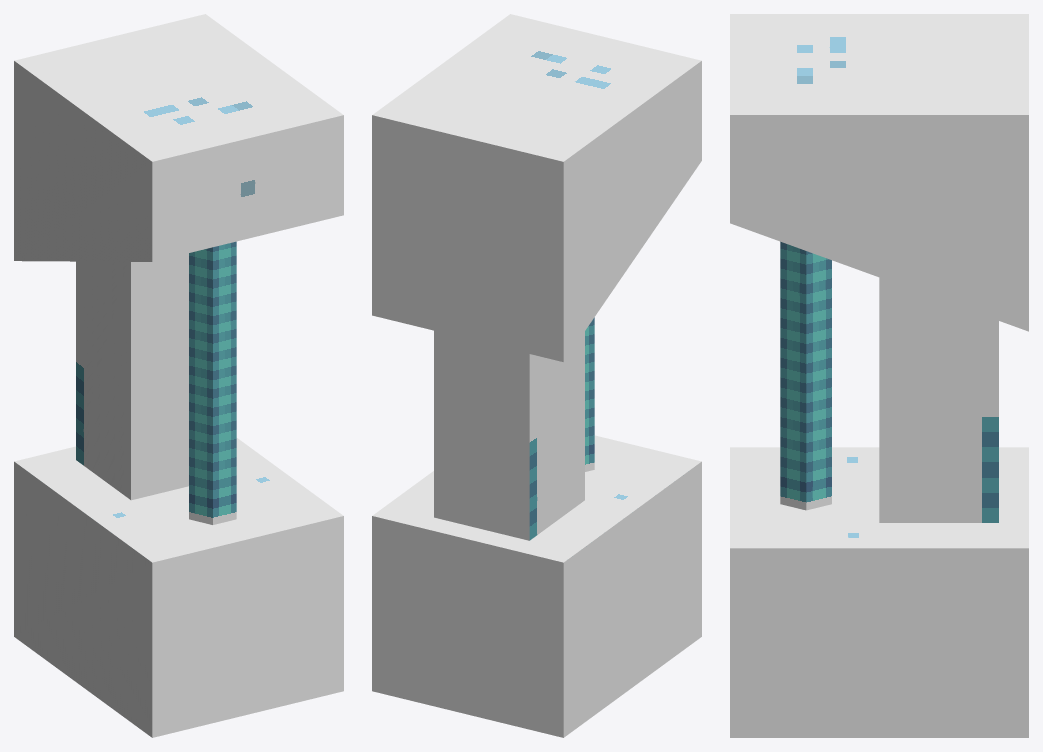
Rendered from charging_station_overlay.obj.
3 renders of one model, left to right at view 1: azimuth 30°, elevation 25°; view 2: azimuth 150°, elevation 25°; view 3: azimuth 270°, elevation 25°, orthographic. The views are drawn at different scales.
Visible parts, largest first — view 1: Base, Rod; view 2: Base, Rod; view 3: Base, Rod.
Boxes of the visible parts, x1,y1,x2,y2 form: Base: (14, 14, 343, 737); Rod: (189, 241, 236, 524); Base: (372, 14, 701, 737); Rod: (585, 317, 594, 471); Base: (730, 14, 1028, 737); Rod: (780, 241, 831, 510).
Bounding box in the file's own units: 0.8 × 2.3 × 1.
